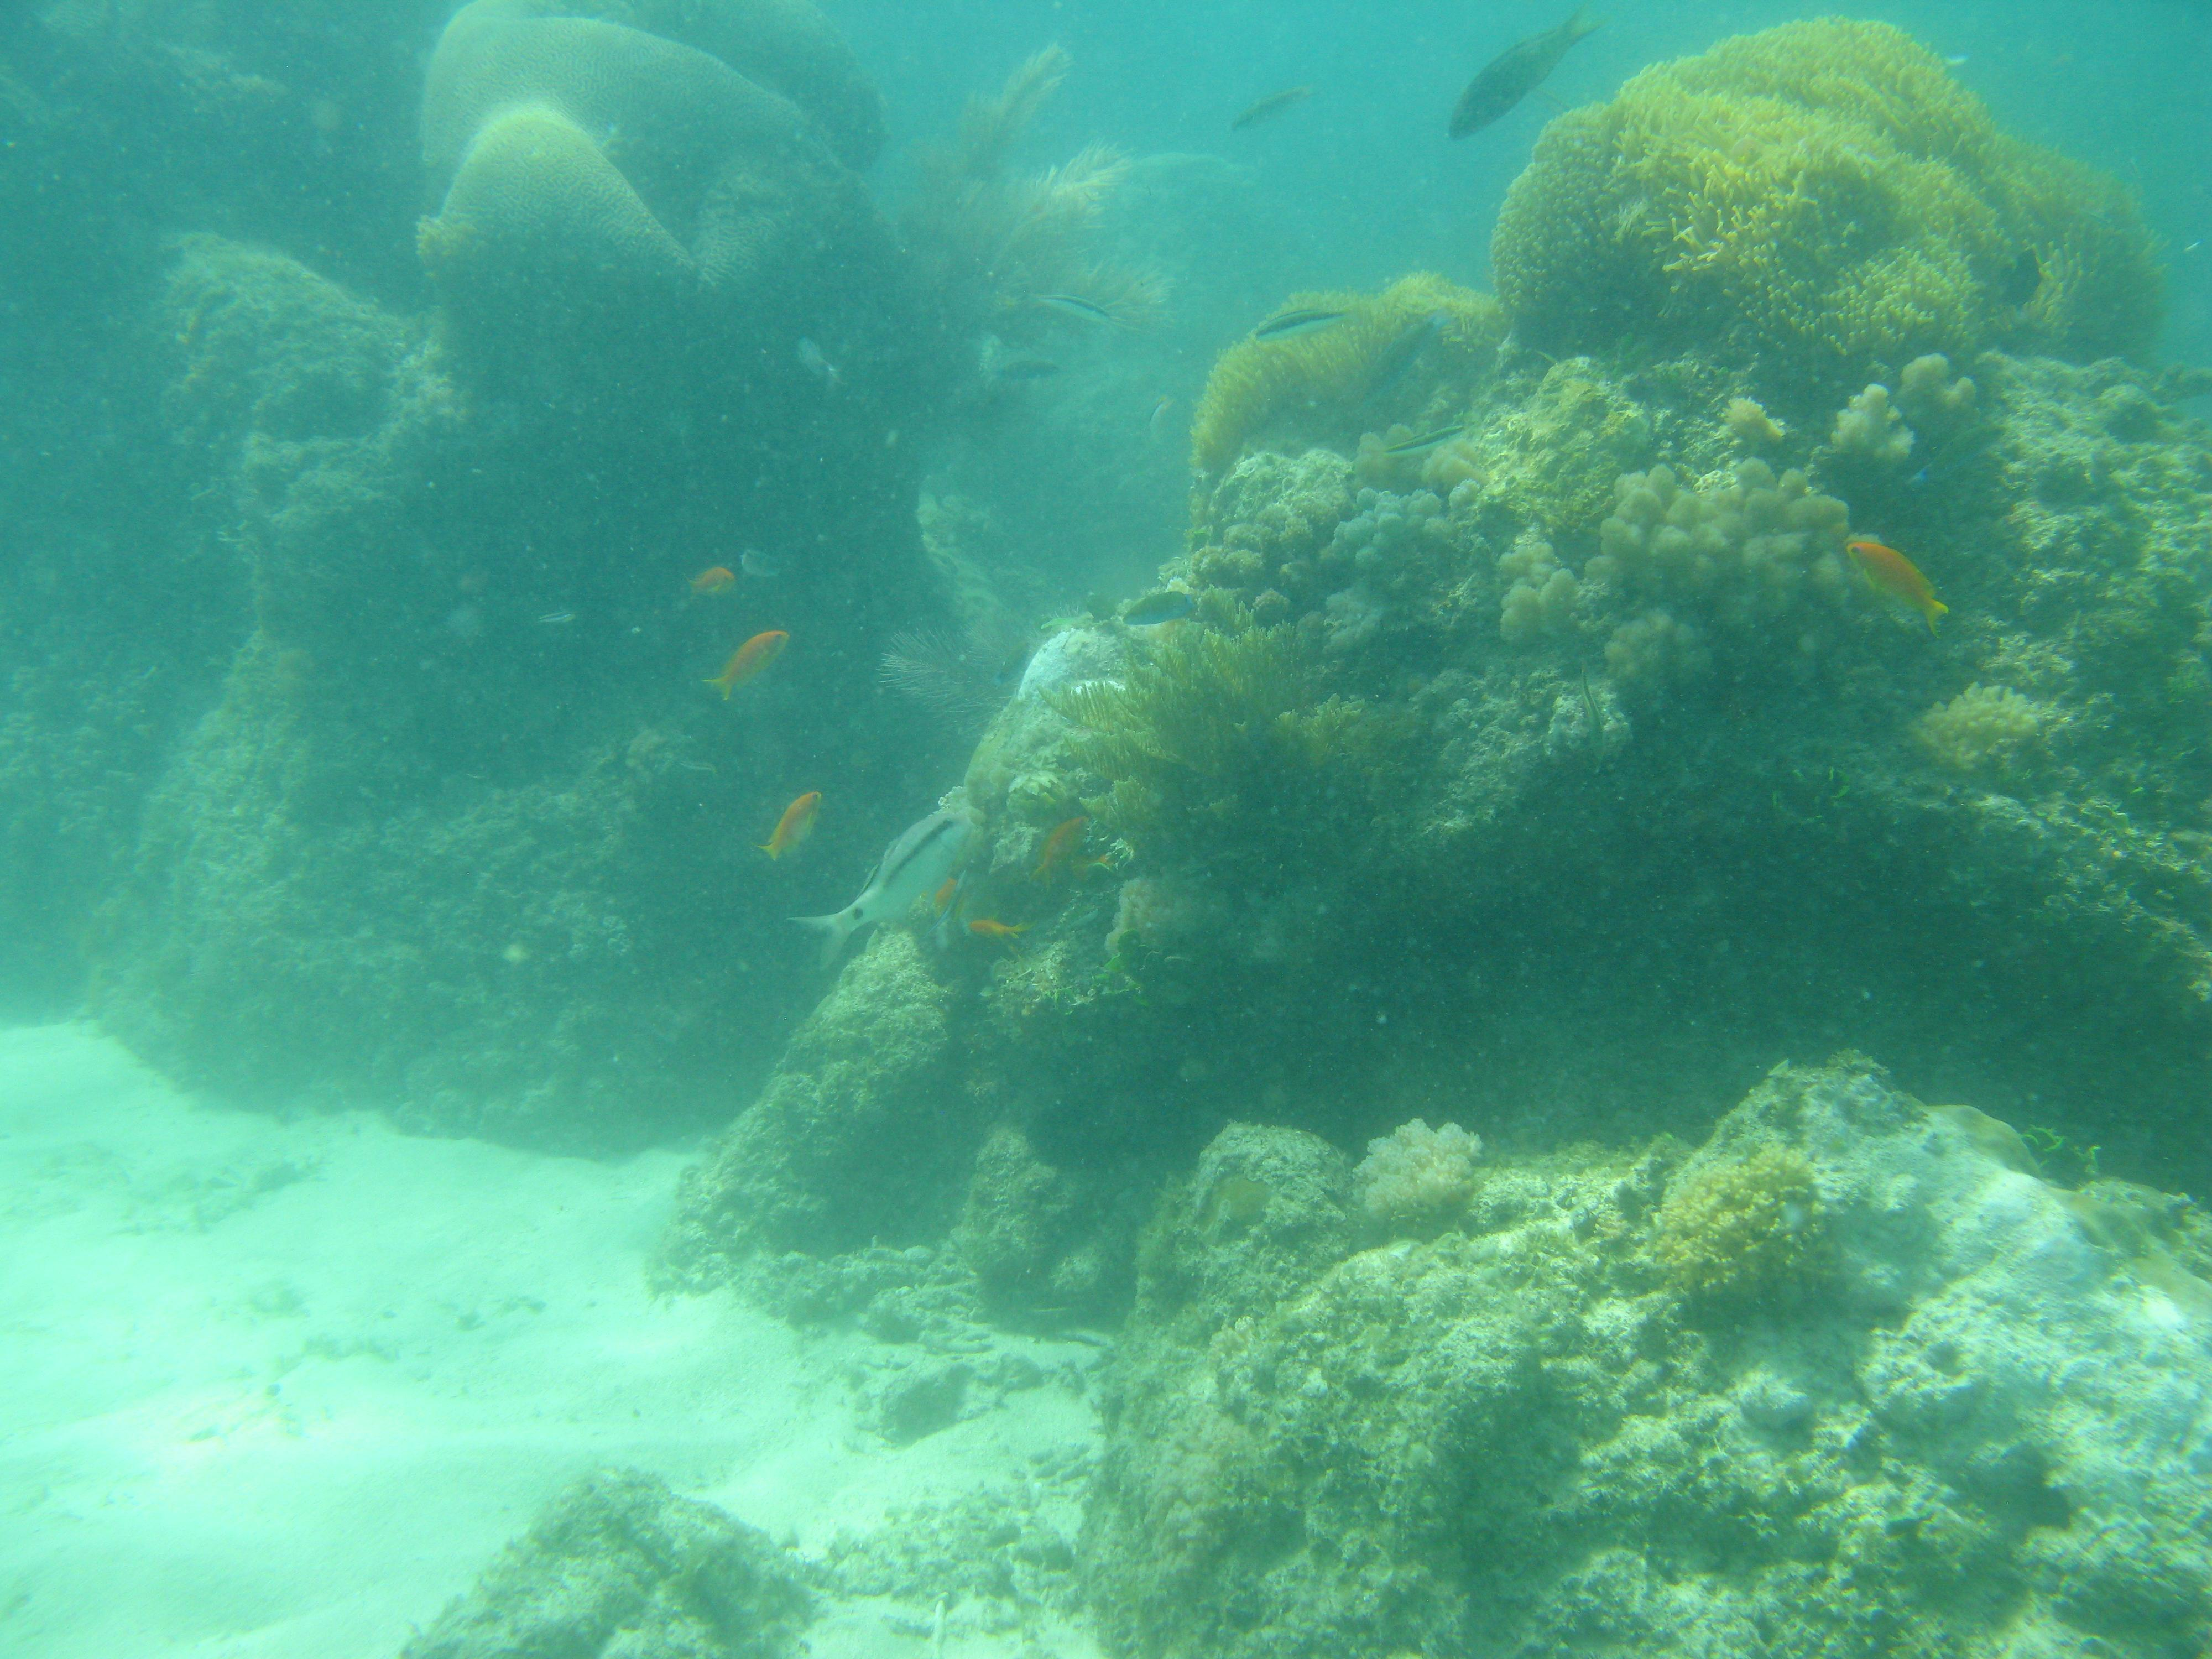Fish: (784, 777, 982, 1019)
